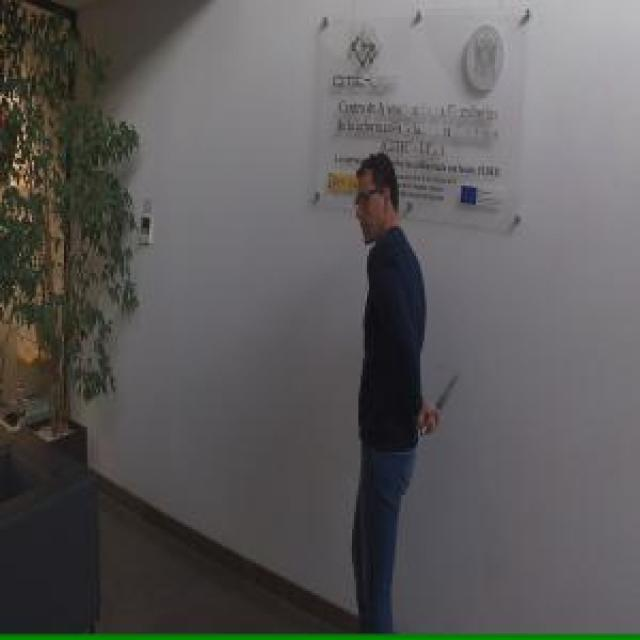knife: (418, 369, 463, 442)
